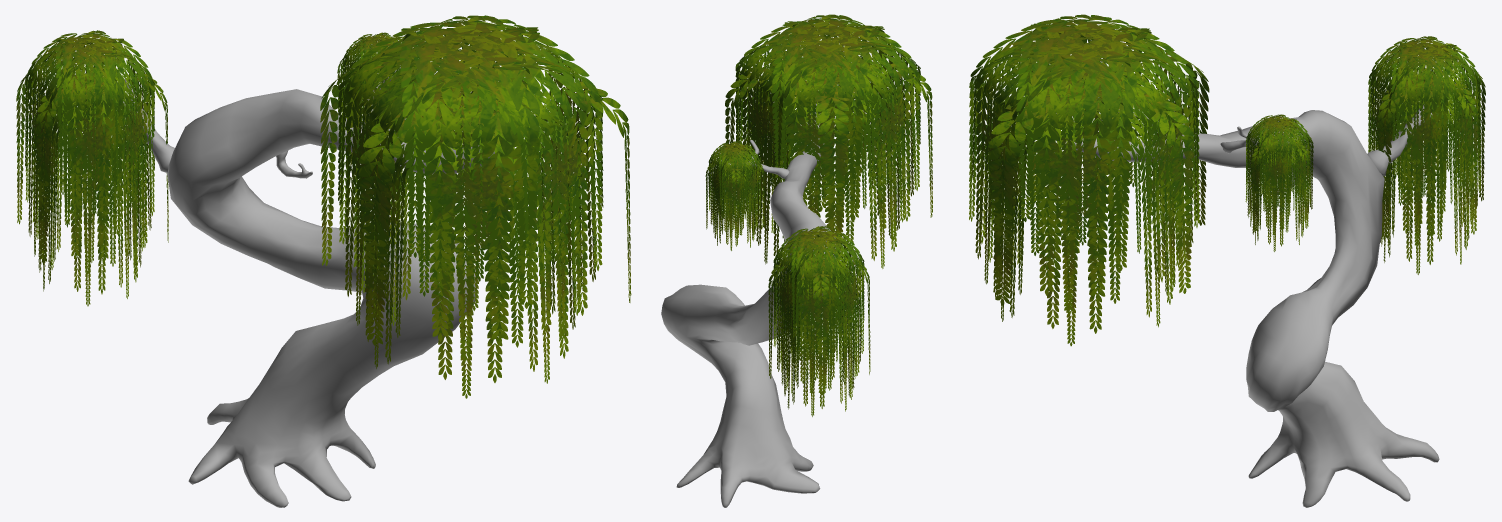
The model's file is WillowTree.fbx.
The picture shows the model from 3 angles, left to right: view 1: azimuth 30°, elevation 25°; view 2: azimuth 150°, elevation 25°; view 3: azimuth 270°, elevation 25°; orthographic projection. The views are drawn at different scales.
Visible parts, largest first — view 1: Willow_leaves:pCylinder2 (×4), Env_Tree, Willow_leaves:pCylinder3 (×4), Willow_leaves:pCylinder1 (×5), Willow_leaves:pCylinder4 (×2), Willow_leaves:pCylinder5 (×2), Willow_leaves:pCylinder7; view 2: Willow_leaves:pCylinder1 (×6), Willow_leaves:pCylinder3 (×6), Env_Tree, Willow_leaves:pCylinder2 (×6), Willow_leaves:pCylinder5 (×3), Willow_leaves:pCylinder6 (×2), Willow_leaves:pCylinder4 (×2); view 3: Willow_leaves:pCylinder1 (×6), Env_Tree, Willow_leaves:pCylinder2 (×6), Willow_leaves:pCylinder3 (×6), Willow_leaves:pCylinder7 (×2), Willow_leaves:pCylinder6 (×2), Willow_leaves:pCylinder5.
Boxes of the visible parts, bbox=[...] form: Willow_leaves:pCylinder2 (×4): bbox=[55, 27, 540, 398]; Env_Tree: bbox=[123, 65, 494, 507]; Willow_leaves:pCylinder3 (×4): bbox=[25, 15, 602, 383]; Willow_leaves:pCylinder1 (×5): bbox=[25, 16, 603, 368]; Willow_leaves:pCylinder4 (×2): bbox=[35, 87, 422, 345]; Willow_leaves:pCylinder5 (×2): bbox=[16, 56, 388, 265]; Willow_leaves:pCylinder7: bbox=[564, 81, 631, 302]; Willow_leaves:pCylinder1 (×6): bbox=[708, 14, 919, 411]; Willow_leaves:pCylinder3 (×6): bbox=[719, 21, 885, 416]; Env_Tree: bbox=[661, 103, 840, 507]; Willow_leaves:pCylinder2 (×6): bbox=[708, 15, 920, 409]; Willow_leaves:pCylinder5 (×3): bbox=[731, 91, 849, 394]; Willow_leaves:pCylinder6 (×2): bbox=[725, 67, 790, 378]; Willow_leaves:pCylinder4 (×2): bbox=[848, 63, 932, 374]; Willow_leaves:pCylinder1 (×6): bbox=[1016, 23, 1457, 346]; Env_Tree: bbox=[1065, 104, 1439, 507]; Willow_leaves:pCylinder2 (×6): bbox=[969, 14, 1481, 327]; Willow_leaves:pCylinder3 (×6): bbox=[970, 17, 1480, 321]; Willow_leaves:pCylinder7 (×2): bbox=[987, 87, 1403, 305]; Willow_leaves:pCylinder6 (×2): bbox=[1136, 83, 1478, 293]; Willow_leaves:pCylinder5: bbox=[1151, 46, 1209, 225].
Size of the model in its own units: 12.61 by 16.98 by 17.78.
